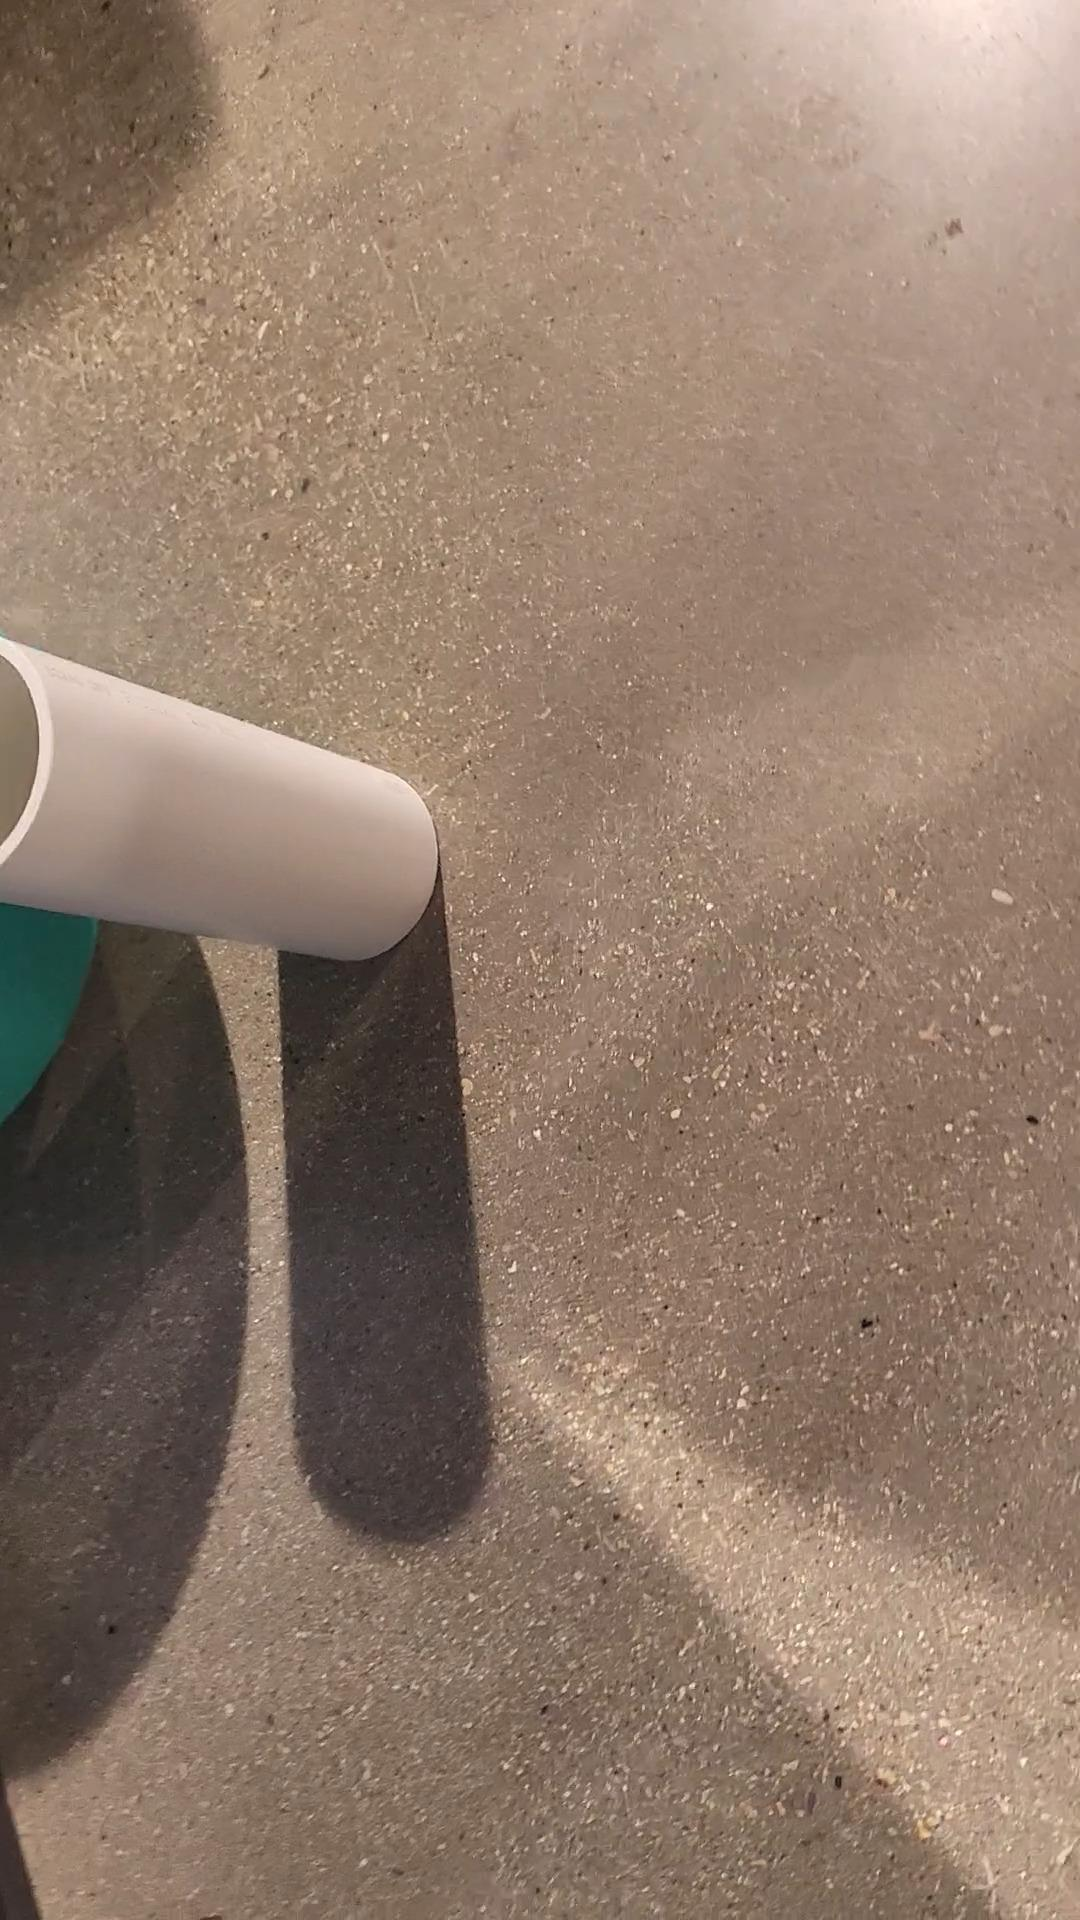algae: (0, 899, 103, 1142)
coral: (0, 640, 435, 963)
